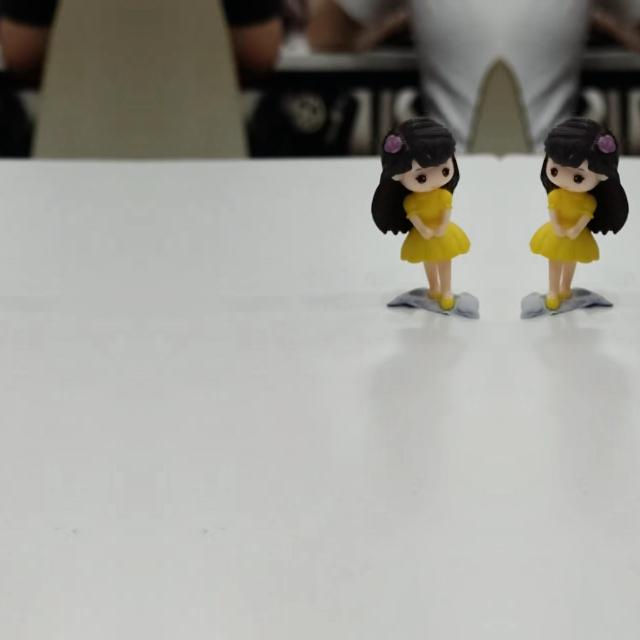woman head: (372, 108, 462, 192), (538, 108, 628, 192)
